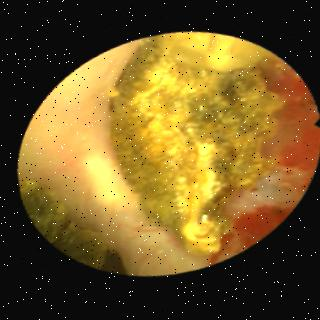stone: (109, 36, 283, 256), (20, 181, 108, 267)
